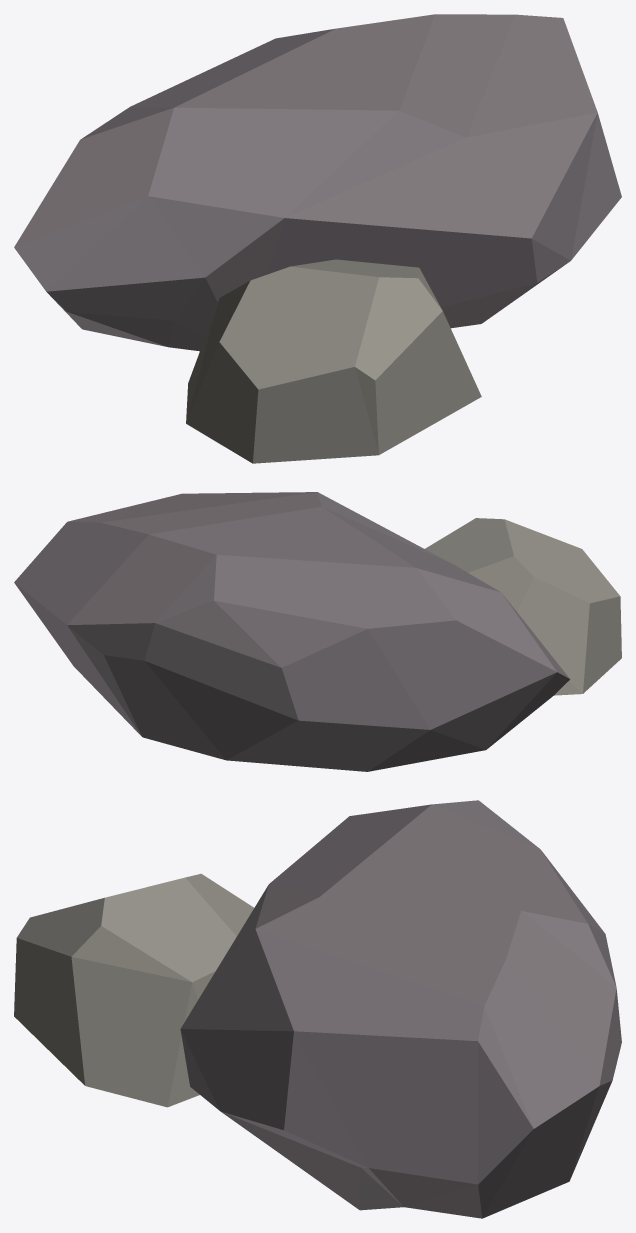
Rendered from Rocks_Round_m_02.fbx.
3 views of the same model, one above another, from view 1: azimuth 30°, elevation 25°; view 2: azimuth 150°, elevation 25°; view 3: azimuth 270°, elevation 25° (orthographic). The views are drawn at different scales.
Parts seen in each view (by area): view 1: Rocks_Round_m_02; view 2: Rocks_Round_m_02; view 3: Rocks_Round_m_02.
Part boxes in pixels (bbox=[...]): Rocks_Round_m_02: bbox=[14, 14, 621, 463]; Rocks_Round_m_02: bbox=[14, 492, 621, 771]; Rocks_Round_m_02: bbox=[14, 800, 621, 1218].
Size of the model in its own units: 1.82 by 0.6442 by 1.49.
